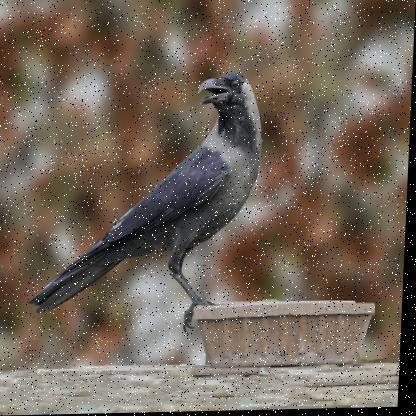Burung: (30, 73, 264, 337)
